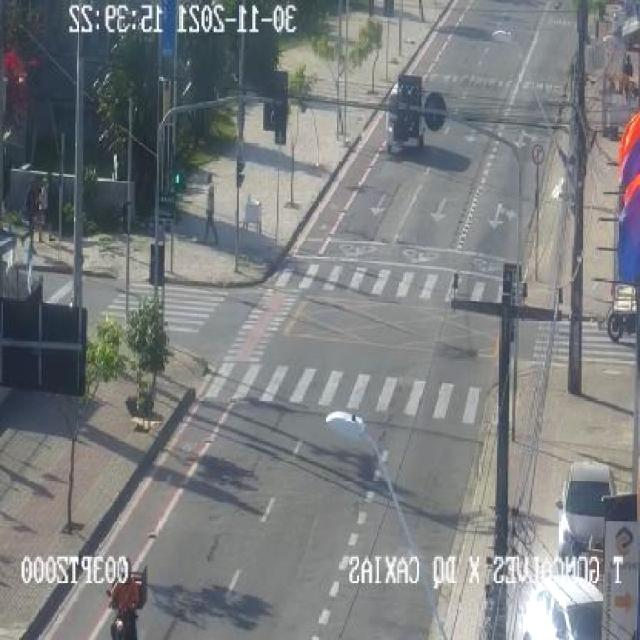Car: (515, 560, 611, 640), (550, 451, 622, 555), (381, 78, 423, 152)
Cycle: (105, 553, 148, 640), (598, 302, 638, 341)
